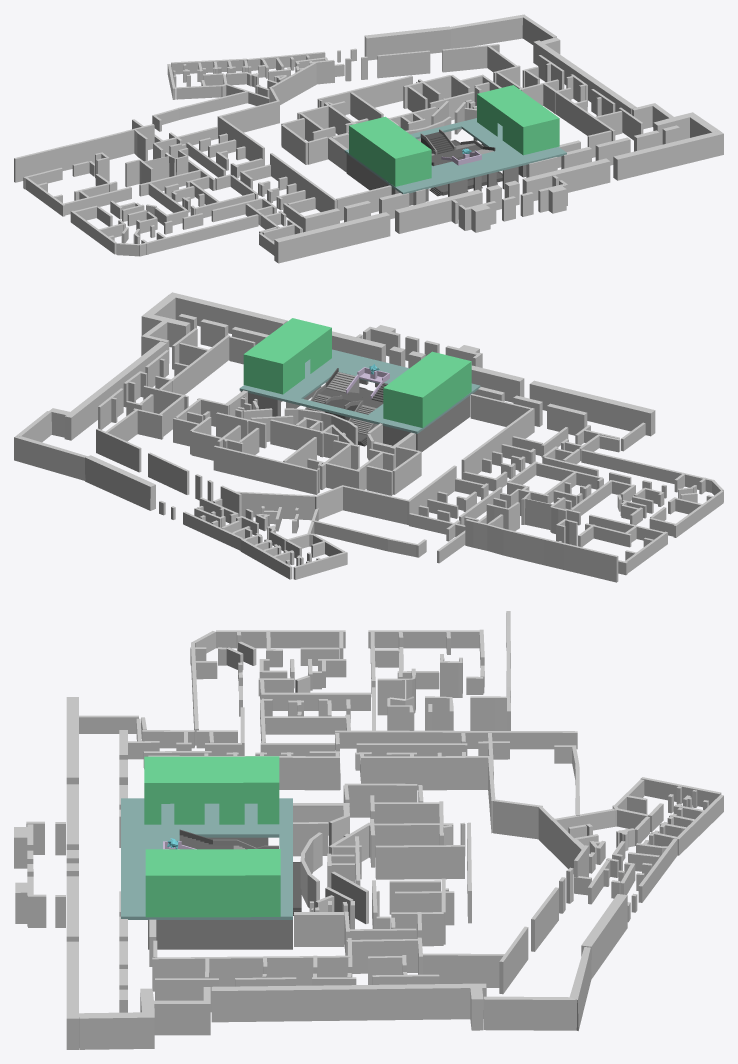
Rendered from The very beggining.0.fbx.
3 views of the same model, one above another, from view 1: azimuth 30°, elevation 25°; view 2: azimuth 150°, elevation 25°; view 3: azimuth 270°, elevation 25° (orthographic). The views are drawn at different scales.
Visible parts, largest first — view 1: стіни першого поверху, прямо по входу зверху 216, прямо по входу; view 2: стіни першого поверху, прямо по входу зверху 216, прямо по входу; view 3: стіни першого поверху, прямо по входу зверху 216, прямо по входу.
Part boxes in pixels (bbox=[...]): стіни першого поверху: bbox=[14, 14, 723, 263]; прямо по входу зверху 216: bbox=[344, 85, 566, 194]; прямо по входу: bbox=[346, 137, 526, 205]; стіни першого поверху: bbox=[14, 292, 723, 582]; прямо по входу зверху 216: bbox=[239, 318, 480, 433]; прямо по входу: bbox=[240, 379, 470, 451]; стіни першого поверху: bbox=[14, 611, 723, 1049]; прямо по входу зверху 216: bbox=[121, 756, 292, 919]; прямо по входу: bbox=[148, 837, 301, 949].
Size of the model in its own units: 12829 by 1141 by 9526.
